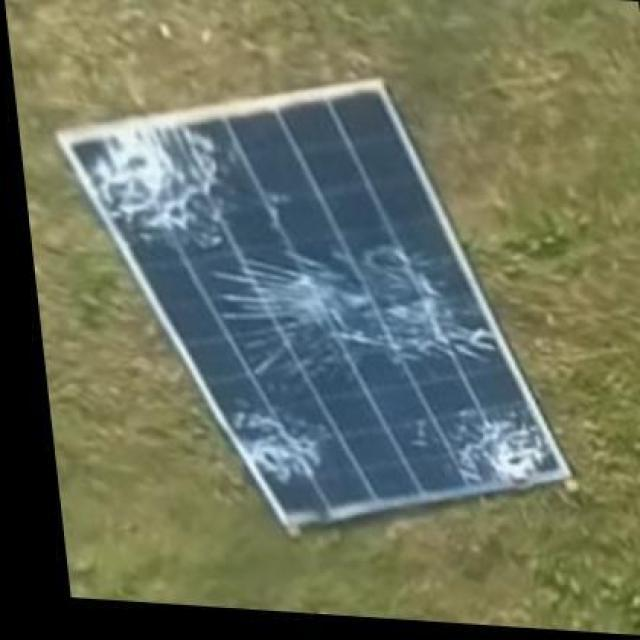cracked: (54, 74, 572, 542)
